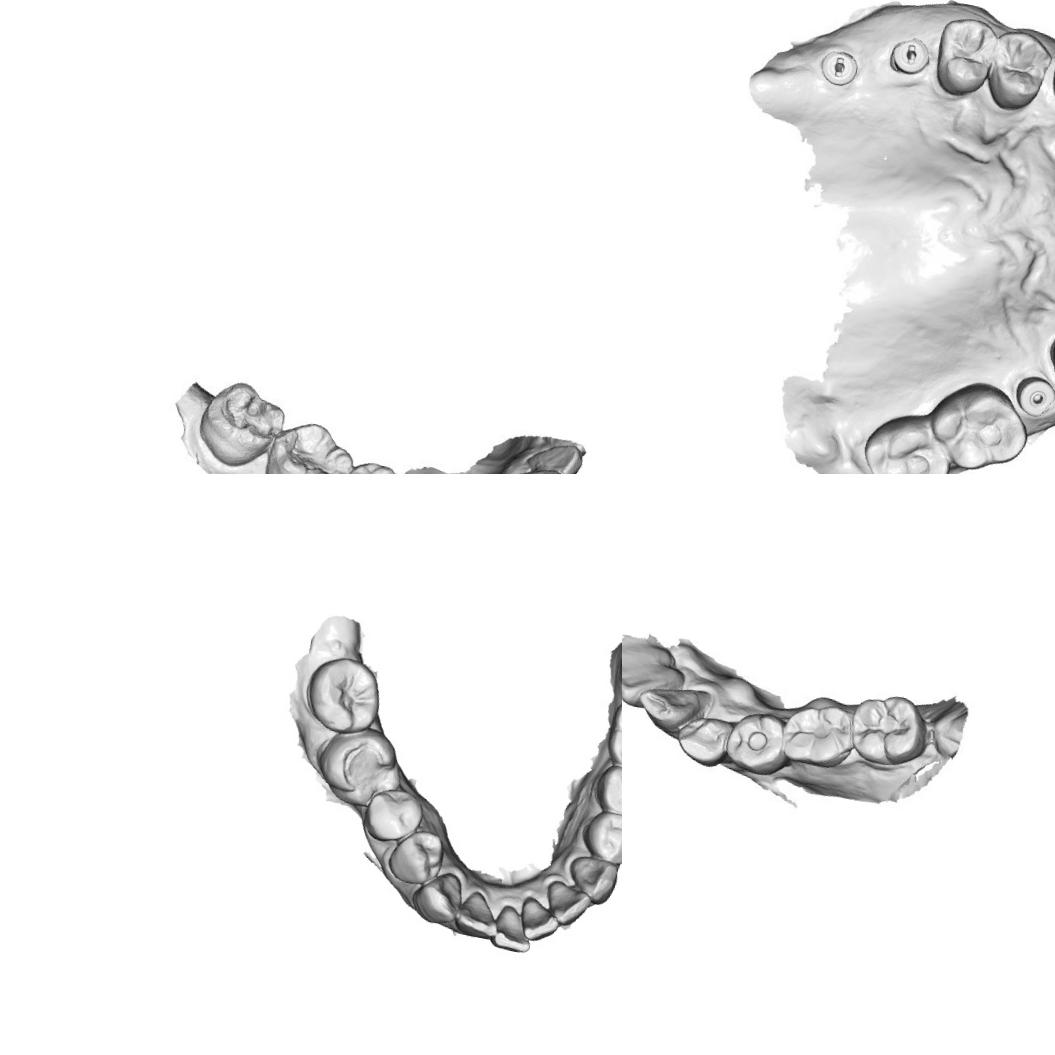canine: (629, 674, 716, 747), (406, 864, 468, 928), (561, 851, 622, 907)
implant: (1008, 370, 1055, 420)
implant_minus: (882, 28, 935, 81), (816, 39, 864, 93)
incisor: (622, 654, 684, 711), (448, 886, 506, 942), (487, 900, 539, 956), (540, 878, 594, 930), (514, 890, 565, 945), (523, 434, 583, 474), (504, 464, 569, 474)
inlay: (214, 382, 283, 446)
molar: (921, 372, 1035, 474), (310, 718, 404, 813), (297, 650, 387, 740), (849, 690, 933, 770), (856, 408, 957, 474), (779, 694, 859, 769), (260, 414, 356, 474), (600, 693, 622, 777)
premolar: (981, 25, 1055, 115), (930, 12, 1000, 100), (356, 781, 428, 849), (382, 824, 449, 891), (729, 709, 790, 776), (676, 708, 740, 766), (575, 806, 622, 868), (587, 759, 622, 822), (332, 450, 402, 474)
